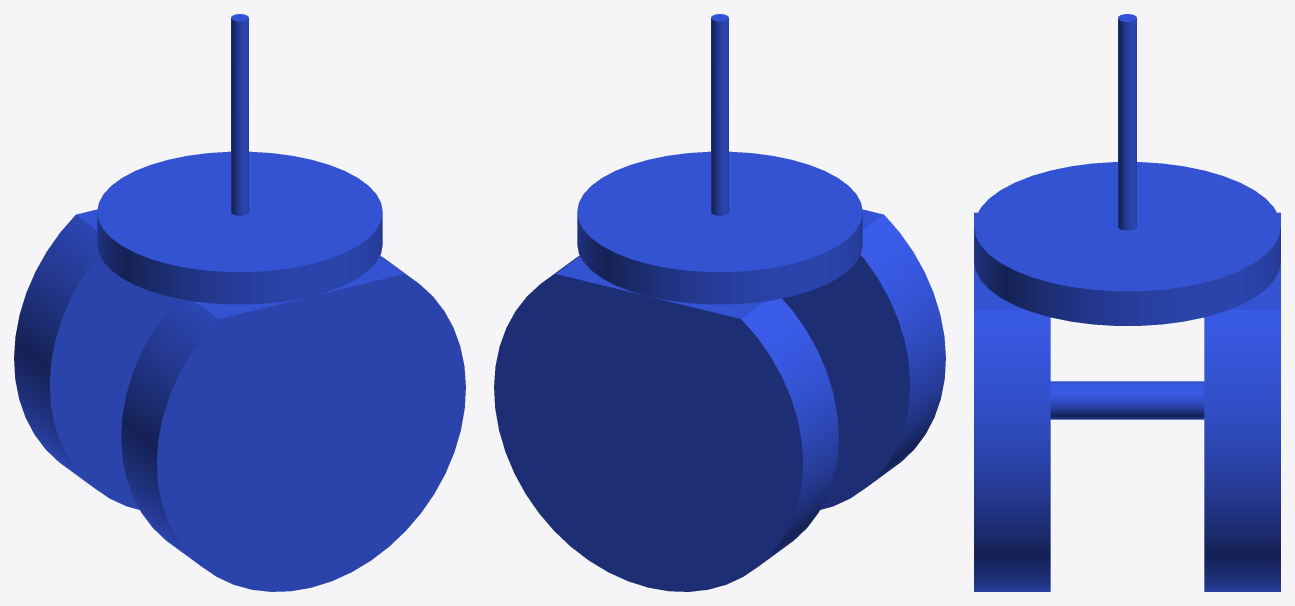
The model's file is Actuator.fbx.
3 renders of one model, left to right at view 1: azimuth 30°, elevation 25°; view 2: azimuth 150°, elevation 25°; view 3: azimuth 270°, elevation 25°, orthographic. The views are drawn at different scales.
Parts seen in each view (by area): view 1: color; view 2: color; view 3: color.
Part boxes in pixels (<box>): color: <box>14,14,465,591</box>; color: <box>494,14,945,591</box>; color: <box>974,14,1280,591</box>.
Size of the model in its own units: 12.7 by 20.32 by 10.16.
